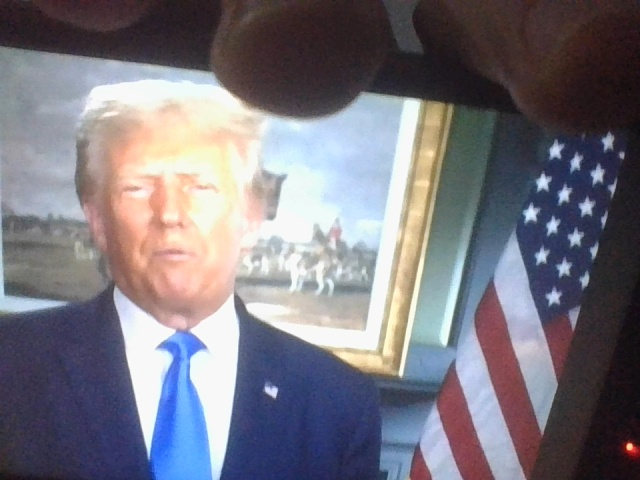fake: (93, 70, 264, 313)
